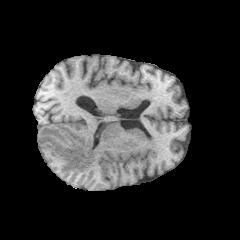glioma: (40, 127, 96, 172)
